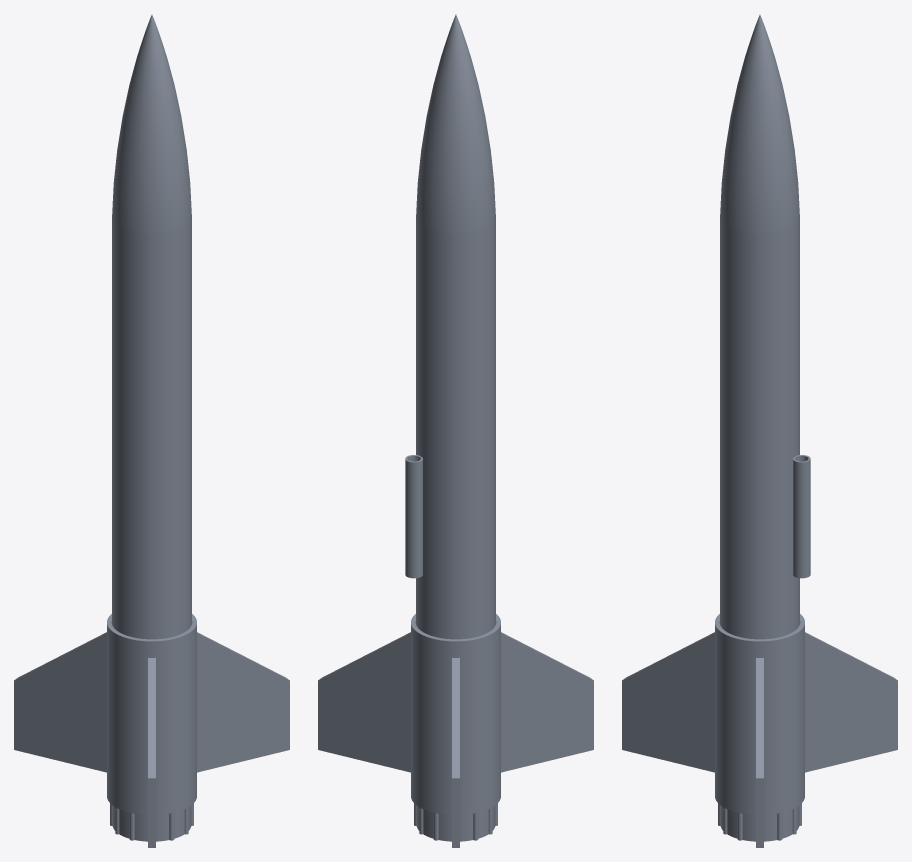
File: step-5.glb
3 views of the same model, side by side, from view 1: azimuth 30°, elevation 25°; view 2: azimuth 150°, elevation 25°; view 3: azimuth 270°, elevation 25° (orthographic).
Visible parts, largest first — view 1: face_c10ec04866fb8ece5a7f, face_ae1fc709e6f1a2a1fdbb, face_8b58d4a90c0b8a1aa91f, face_433370cde01b1eb9ba41, face_52a289b0be338e925783, face_a4f7f2f787812a2de124, face_1d5d9baa3dbe48393f25; view 2: face_c10ec04866fb8ece5a7f, face_ae1fc709e6f1a2a1fdbb, face_8b58d4a90c0b8a1aa91f, face_2cb684508714d971b2ba, face_cda3f4000f37f0bfc1c2, face_c6a73a364aa456311ba5, face_7a74cfe903d603c42f4c, face_9bcfe81b735d2f61d6ed; view 3: face_c10ec04866fb8ece5a7f, face_ae1fc709e6f1a2a1fdbb, face_8b58d4a90c0b8a1aa91f, face_a77de4024c3f349497d5, face_656c450c765b7831a830, face_c6a73a364aa456311ba5, face_1a2507edccd04909daf3, face_706ce44c673d53129623.
Boxes of the visible parts, left/top/right/bottom form: face_c10ec04866fb8ece5a7f: left=112, top=218, right=191, bottom=639; face_ae1fc709e6f1a2a1fdbb: left=107, top=624, right=196, bottom=814; face_8b58d4a90c0b8a1aa91f: left=112, top=14, right=191, bottom=233; face_433370cde01b1eb9ba41: left=197, top=633, right=289, bottom=772; face_52a289b0be338e925783: left=14, top=633, right=106, bottom=772; face_a4f7f2f787812a2de124: left=148, top=657, right=155, bottom=778; face_1d5d9baa3dbe48393f25: left=148, top=778, right=155, bottom=847; face_c10ec04866fb8ece5a7f: left=416, top=218, right=495, bottom=639; face_ae1fc709e6f1a2a1fdbb: left=411, top=624, right=500, bottom=814; face_8b58d4a90c0b8a1aa91f: left=416, top=14, right=495, bottom=233; face_2cb684508714d971b2ba: left=318, top=633, right=410, bottom=772; face_cda3f4000f37f0bfc1c2: left=501, top=633, right=593, bottom=772; face_c6a73a364aa456311ba5: left=405, top=460, right=422, bottom=578; face_7a74cfe903d603c42f4c: left=452, top=657, right=459, bottom=778; face_9bcfe81b735d2f61d6ed: left=452, top=778, right=459, bottom=847; face_c10ec04866fb8ece5a7f: left=720, top=218, right=799, bottom=639; face_ae1fc709e6f1a2a1fdbb: left=715, top=624, right=804, bottom=814; face_8b58d4a90c0b8a1aa91f: left=720, top=14, right=799, bottom=233; face_a77de4024c3f349497d5: left=805, top=633, right=897, bottom=772; face_656c450c765b7831a830: left=622, top=633, right=714, bottom=772; face_c6a73a364aa456311ba5: left=793, top=460, right=810, bottom=578; face_1a2507edccd04909daf3: left=756, top=657, right=763, bottom=778; face_706ce44c673d53129623: left=756, top=778, right=763, bottom=847.
Bounding box in the file's own units: 0.0747 × 0.28 × 0.0863.
